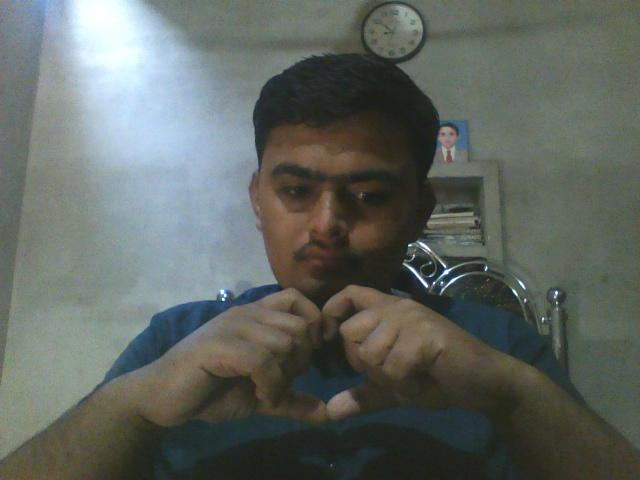IloveYou: (139, 264, 456, 439)
